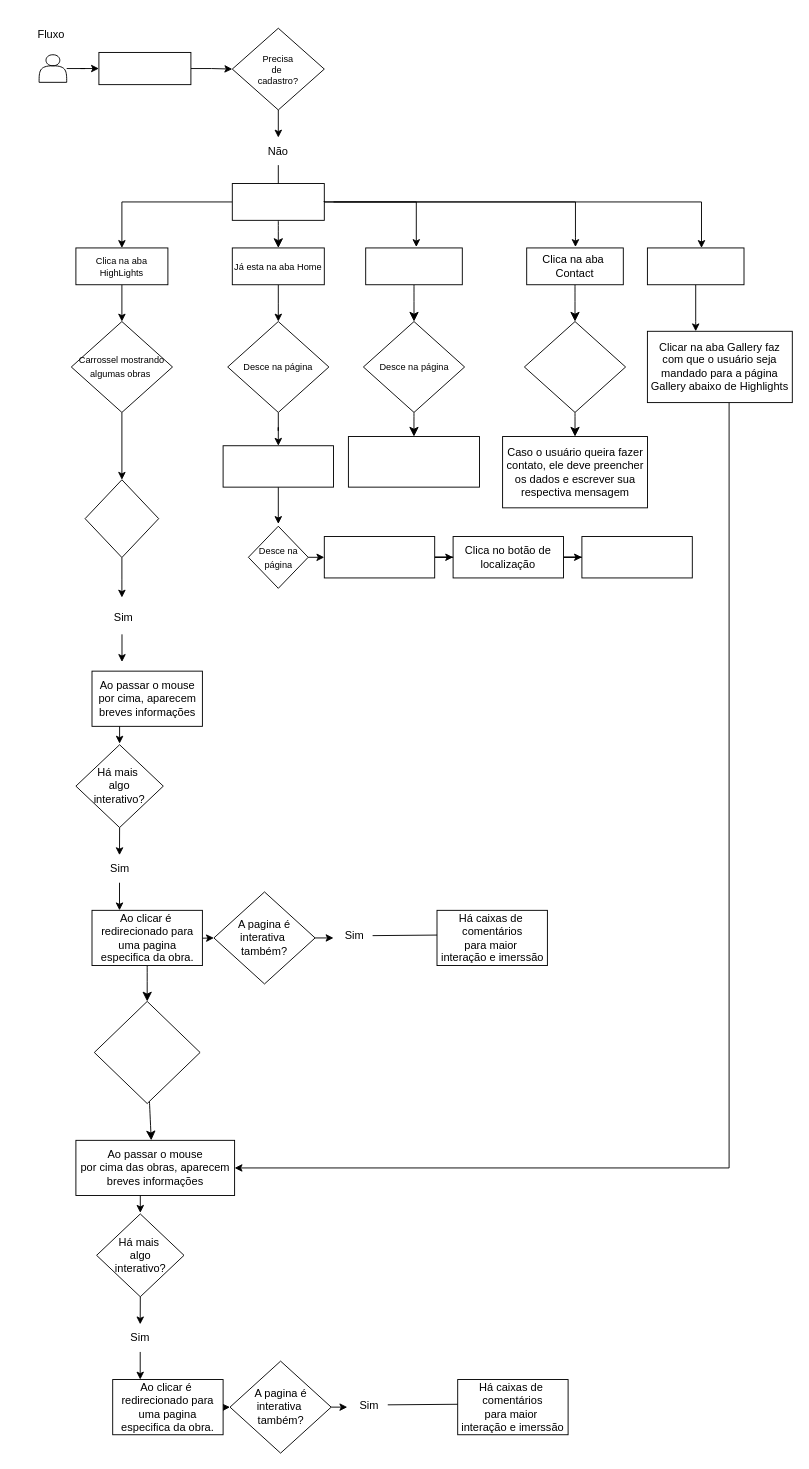
This 809x1469 diagram has some shape labels left out. The shapes that lost their labels are listed below. From the top down, each one's box as (x1, y1, x2, y2) in pixels, then its label:
(98, 52, 191, 85): Usuário entra no site
(231, 183, 324, 220): É direcionado para pagina inicial
(365, 247, 462, 285): Clica na aba About
(646, 247, 744, 285): Clica na aba Gallery
(523, 321, 626, 412): Um formulário aparece
(222, 445, 334, 487): Aba About é mostrada
(347, 436, 480, 487): Dados sobre a galeria e sobre o colecionador são mostrados
(84, 479, 159, 558): É interativa
(323, 536, 435, 578): Aparece botão para mostrar localização
(581, 536, 692, 578): A localização da galeria e fotos são mostradas
(93, 1000, 200, 1104): Ao descer a página se encontra a aba Gallery
